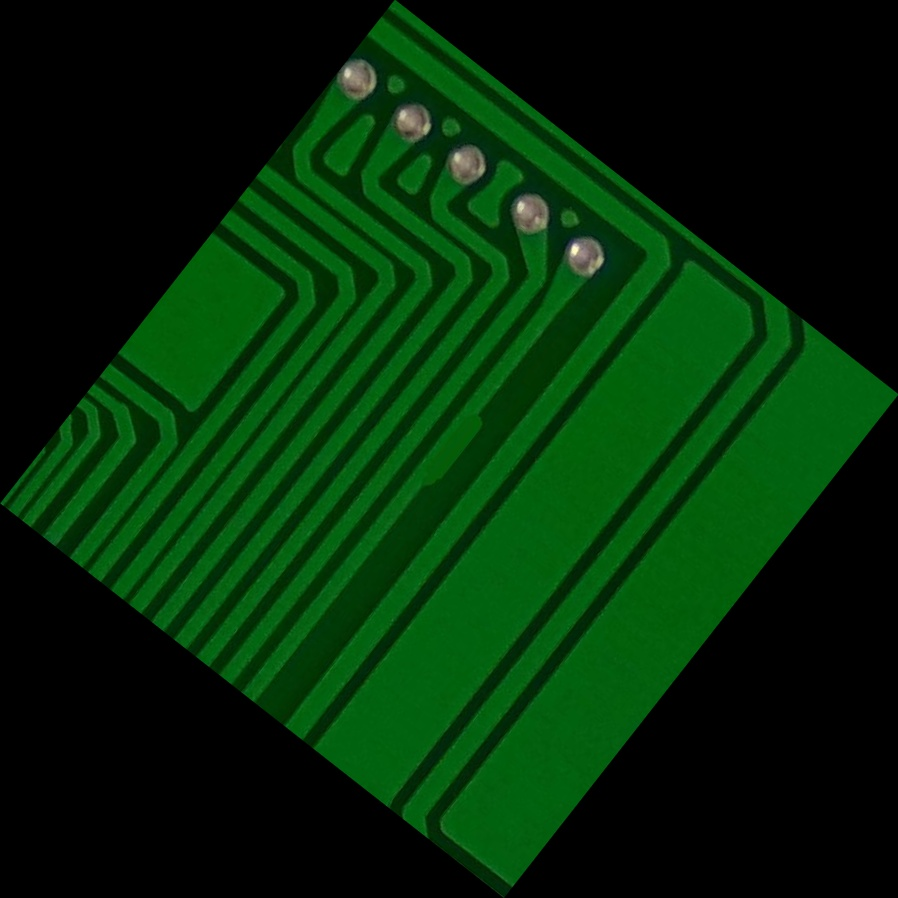spur: (392, 386, 506, 512)
